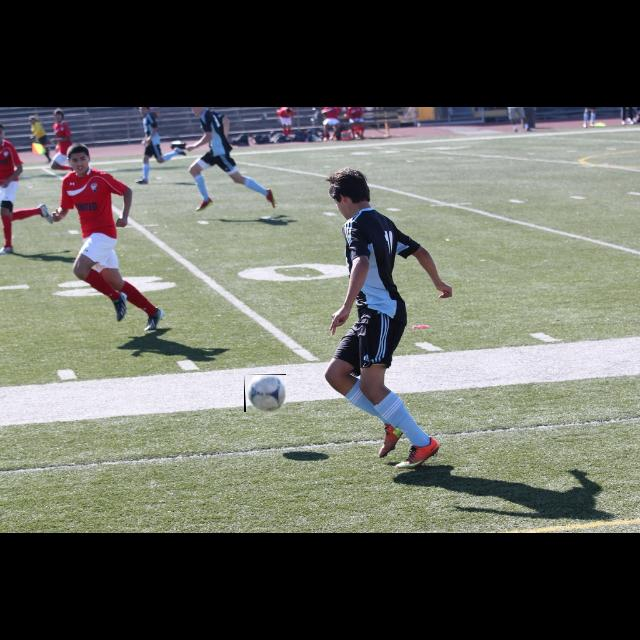Football: (244, 374, 286, 412)
